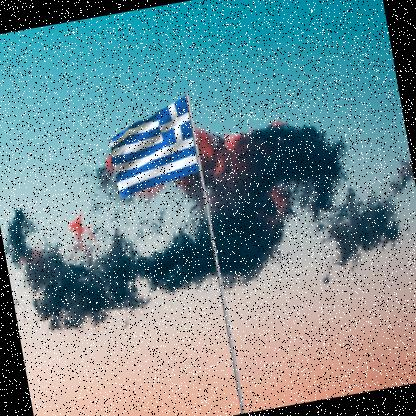gr: (102, 96, 202, 200)
